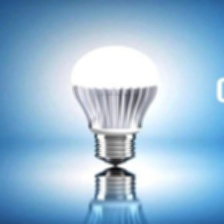light_bulb: (68, 42, 162, 168)
